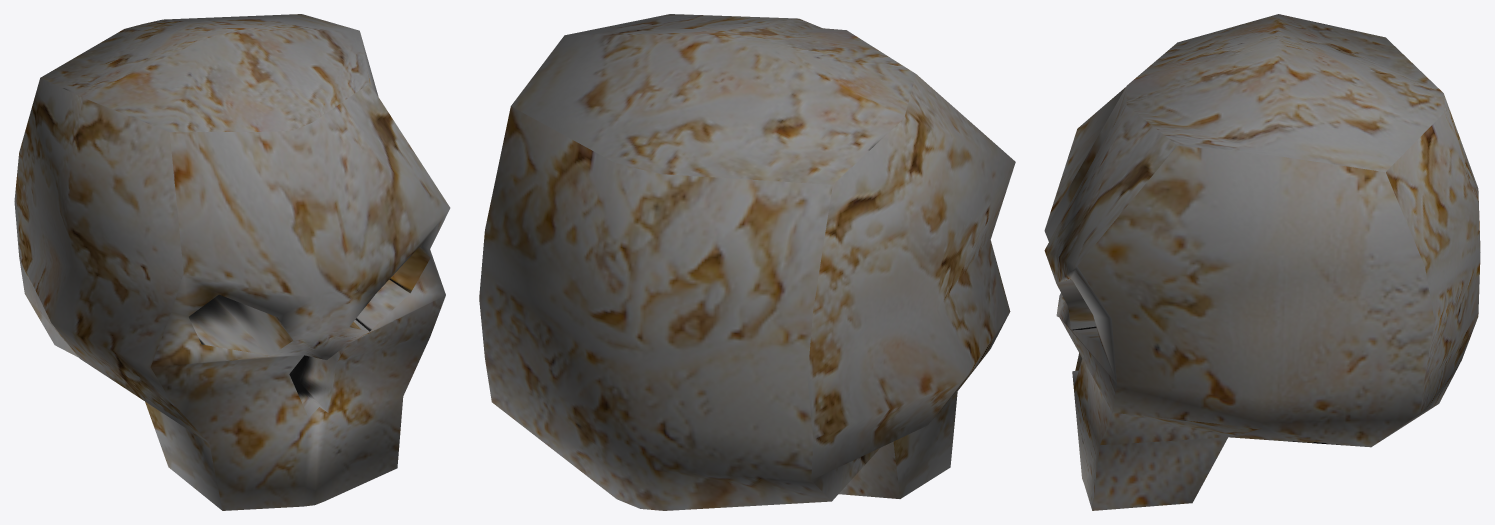
File: Skull1.fbx
3 views of the same model, side by side, from view 1: azimuth 30°, elevation 25°; view 2: azimuth 150°, elevation 25°; view 3: azimuth 270°, elevation 25° (orthographic). The views are drawn at different scales.
Parts seen in each view (by area): view 1: Skull2; view 2: Skull2; view 3: Skull2.
Boxes of the visible parts, x1,y1,x2,y2 form: Skull2: (14, 14, 450, 510); Skull2: (479, 14, 1015, 510); Skull2: (1044, 14, 1480, 510).
Bounding box in the file's own units: 0.3087 × 0.3357 × 0.3099.
